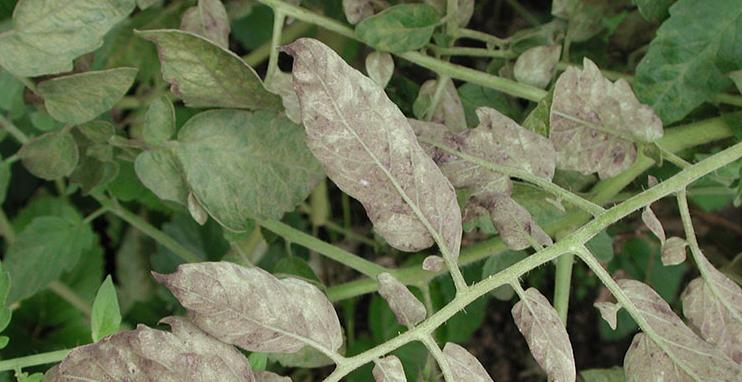Tomato mold leaf: (149, 116, 323, 235), (636, 0, 742, 115), (0, 0, 144, 78), (13, 62, 140, 150)
